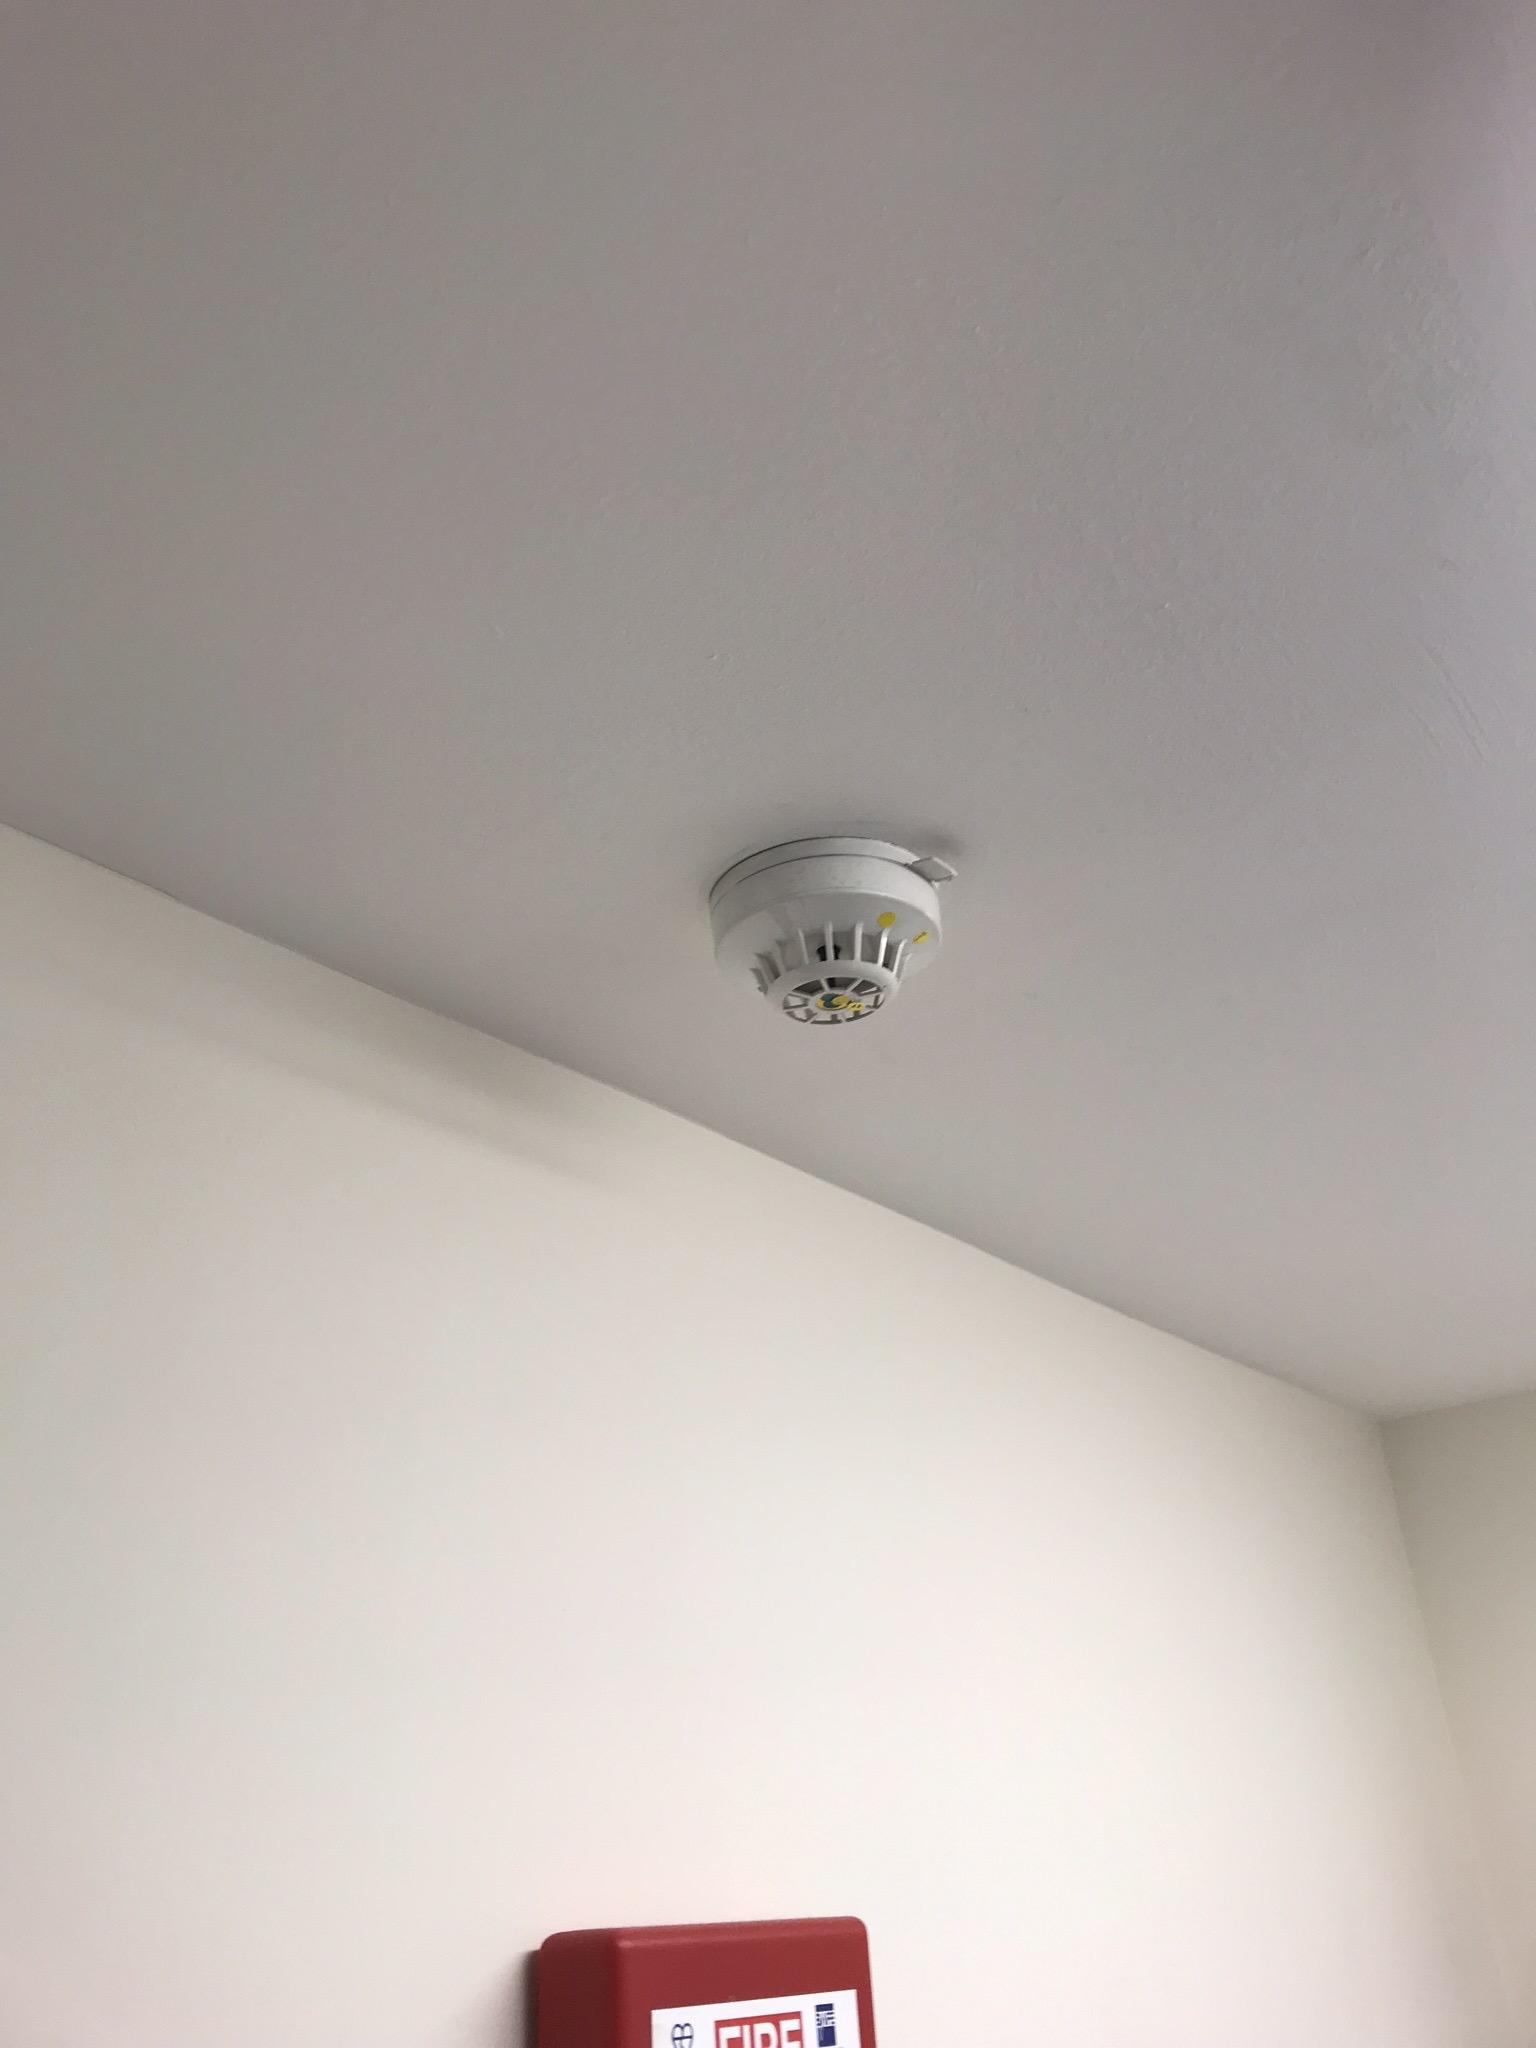detector: (705, 829, 957, 1029)
